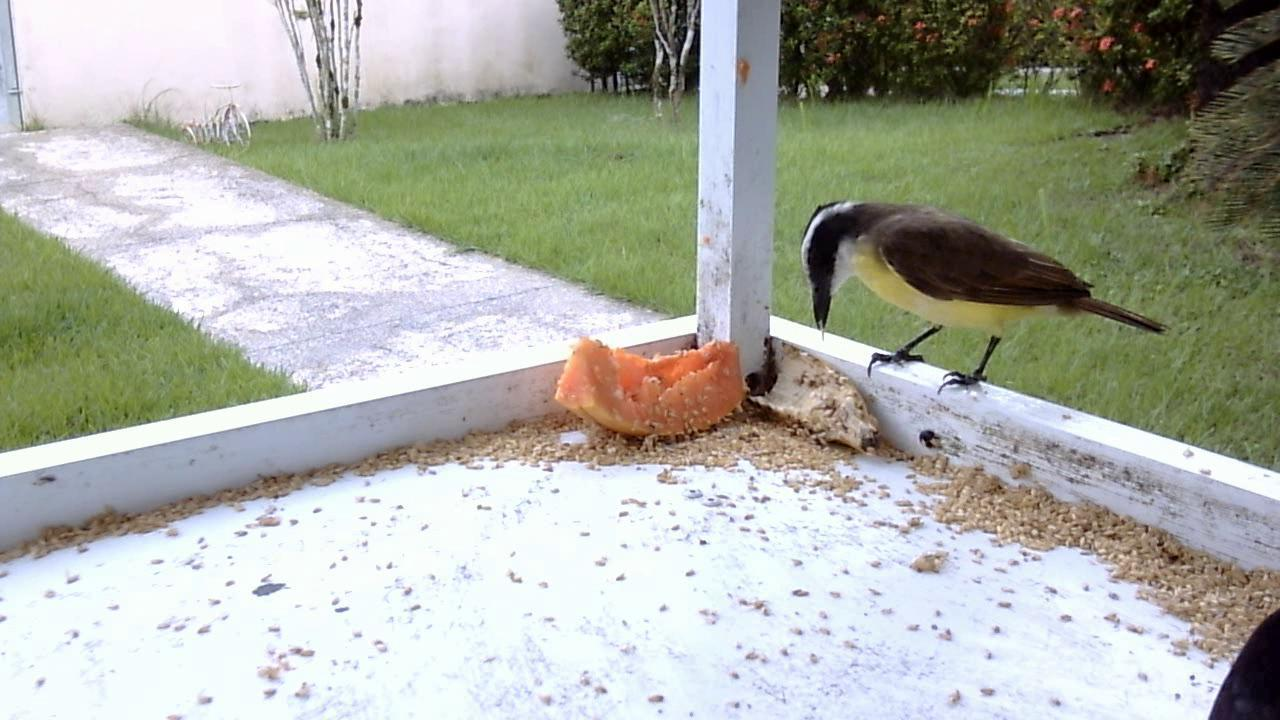bem_te_vi: (786, 187, 1179, 419)
